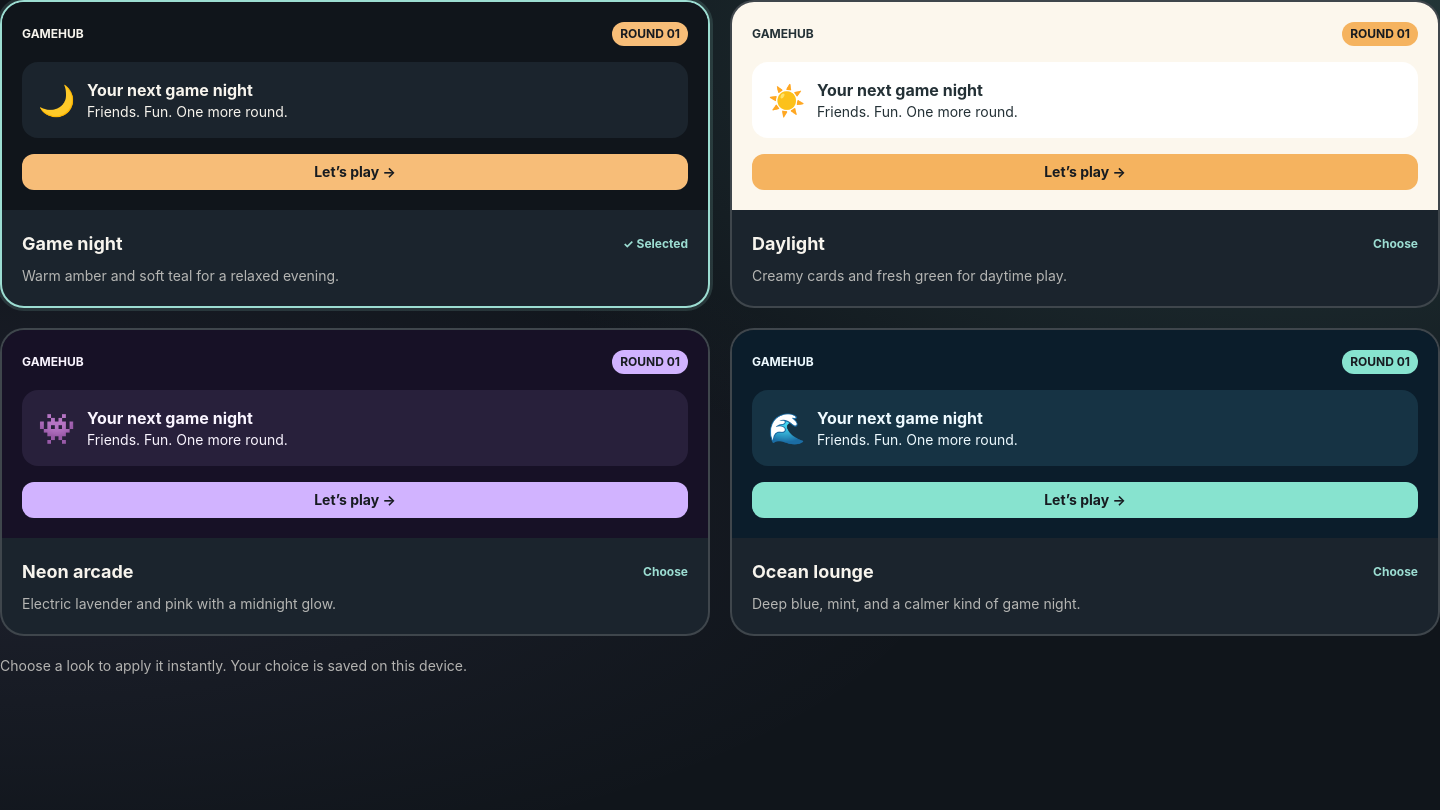
theme picker stays usable when storage is unavailable
Click the button named "Ocean lounge" at {"x": 1085, "y": 482}, box top-left (730, 328), bottom-right (1439, 636)
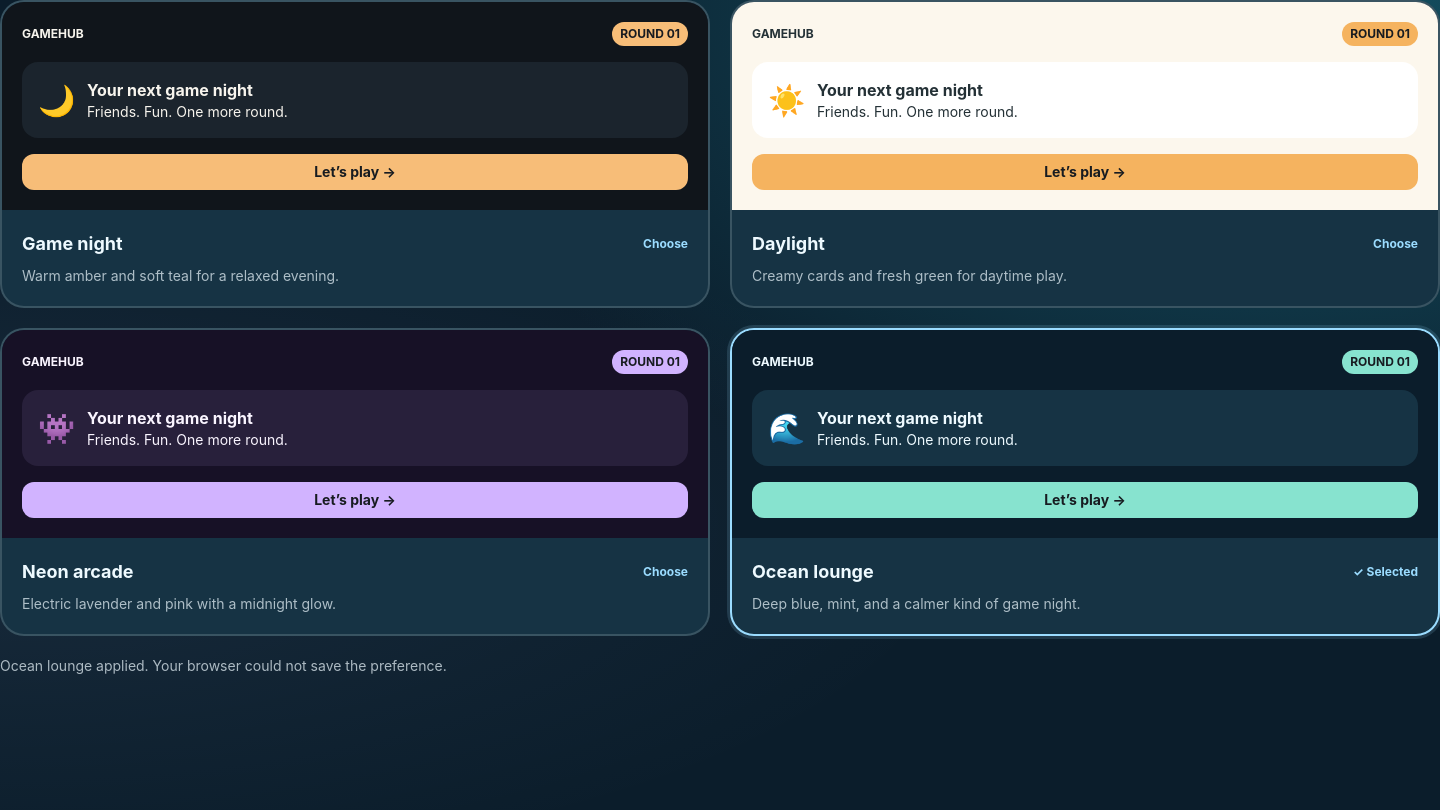
Expected: the message shows "could not save", top-left (0, 657), bottom-right (447, 674)
